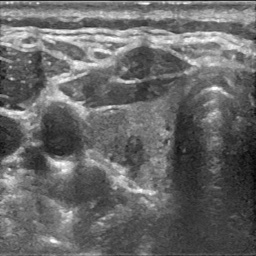mass: (127, 137, 147, 175)
